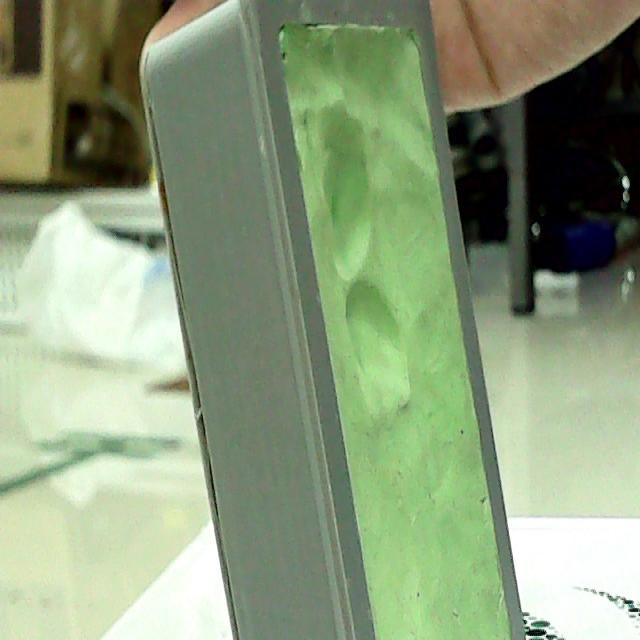block: (138, 0, 532, 639)
